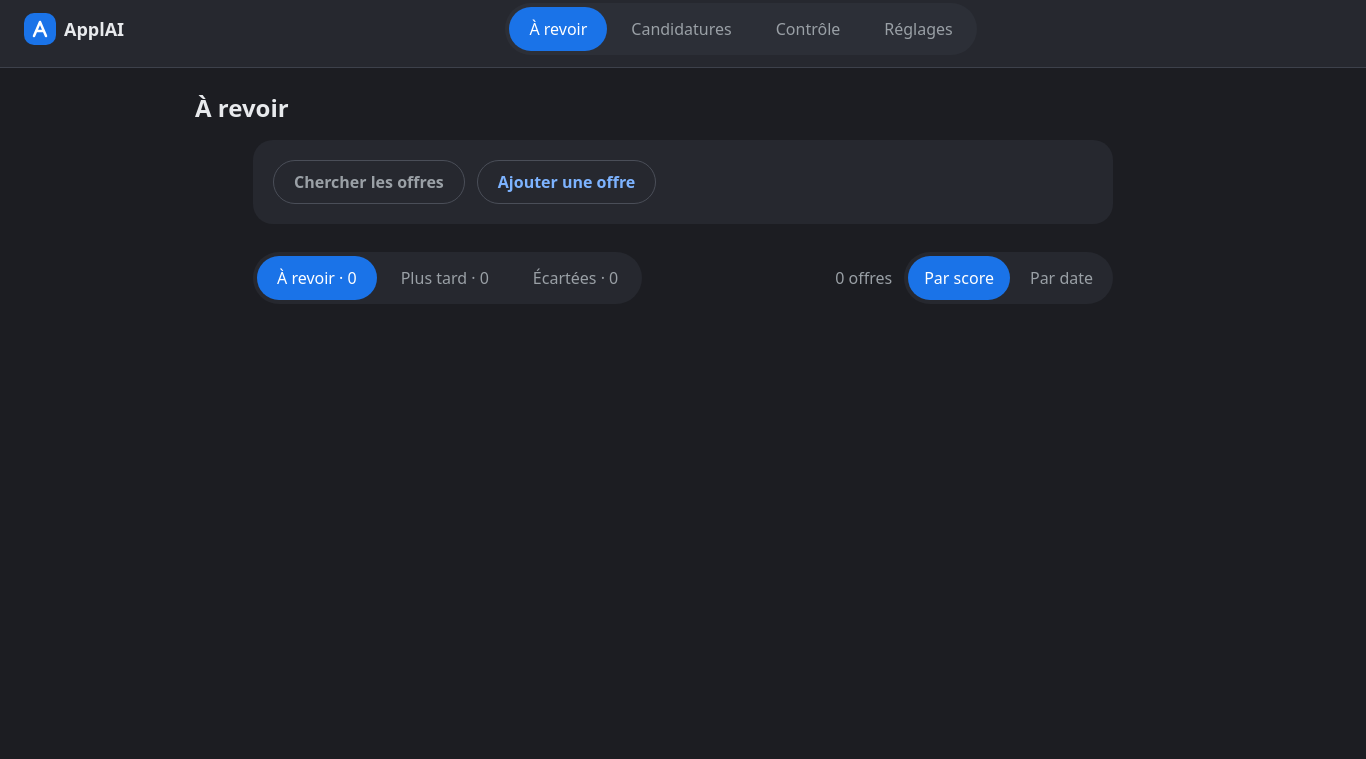
Test: the Settings page › shows the four categories in order, each service with its state as a light and, when not green, its sentence, in en
The image size is (1366, 759).
Step 1. Click the button "Réglages" → (919, 29), box [864,7,973,51]
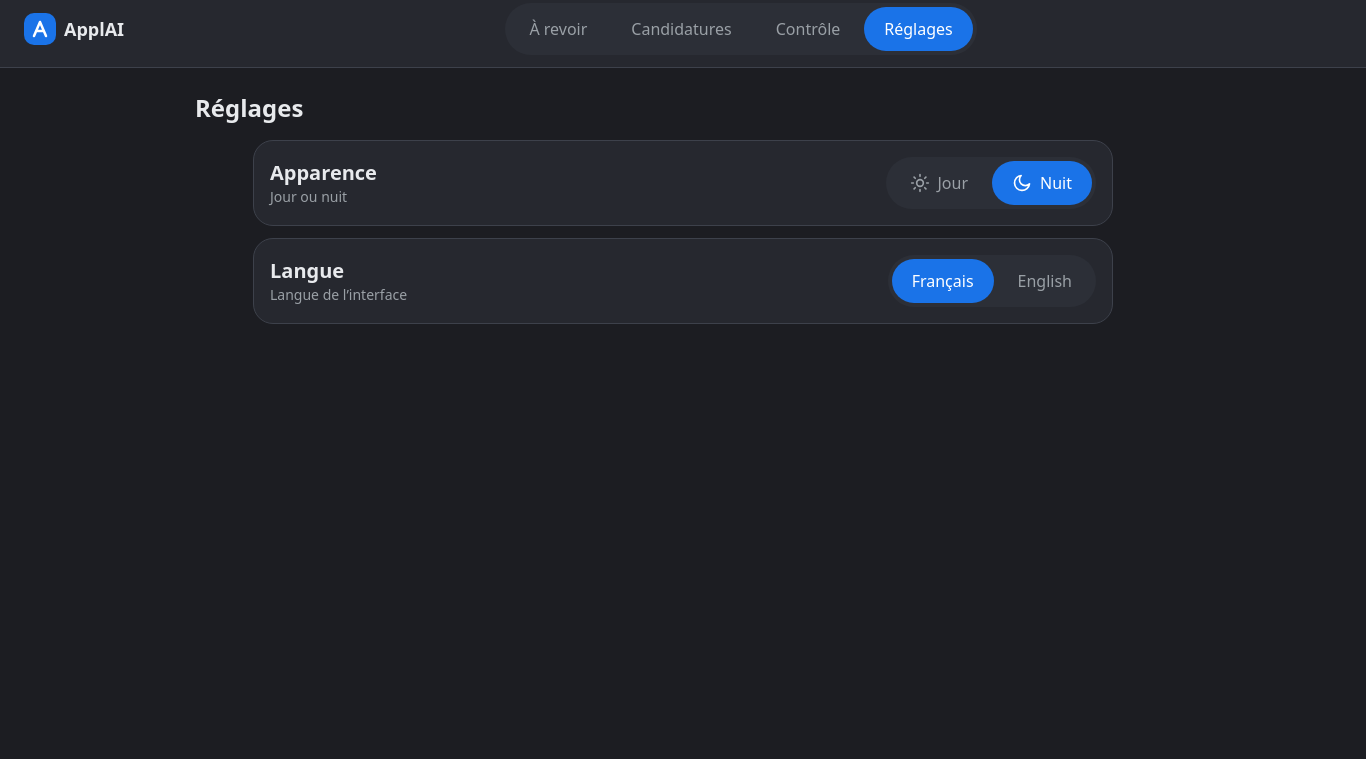
Step 2. Click the button "English" → (1045, 281), box [998,259,1092,303]
(page scrolled)
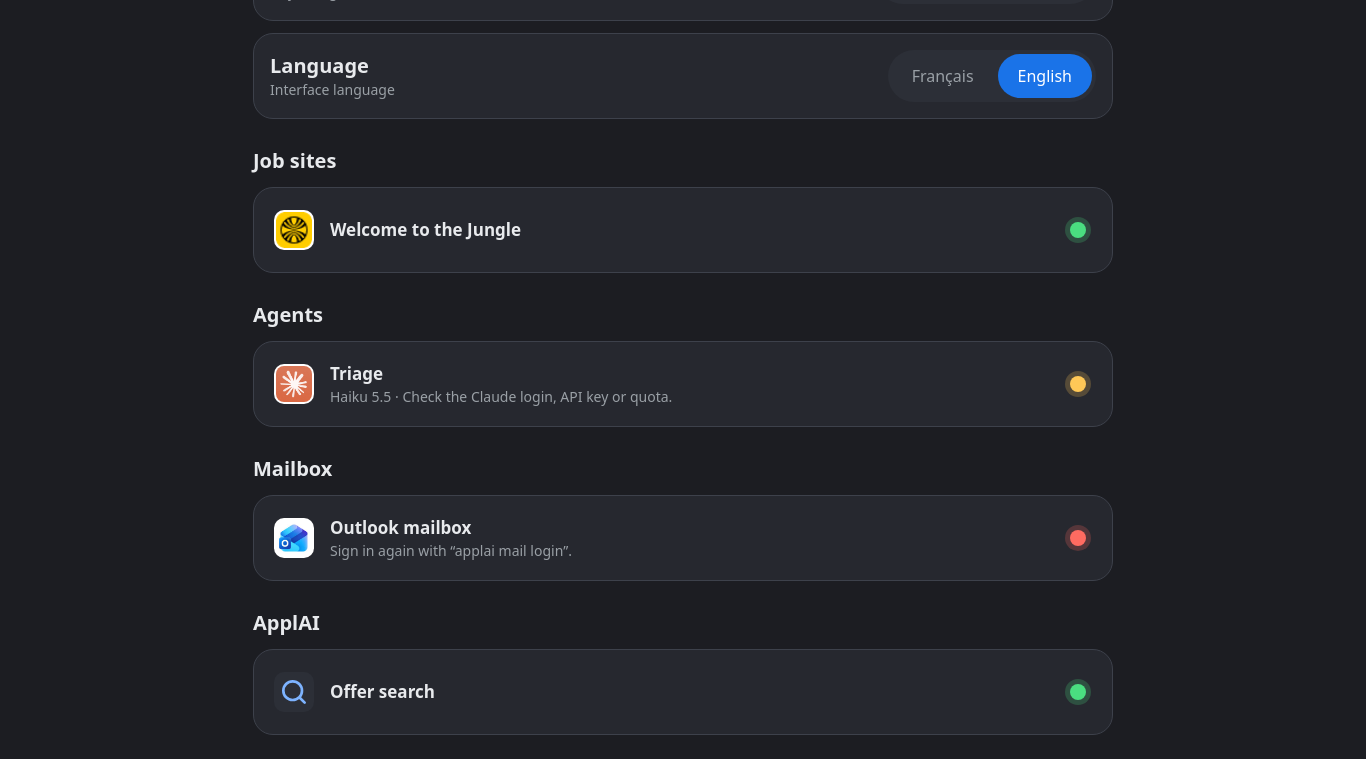
Now the heading "Welcome to the Jungle" is shown, box [330,218,521,241]
Now the heading "Triage" is shown, box [330,362,383,385]
Now the heading "Outlook mailbox" is shown, box [330,516,471,539]
